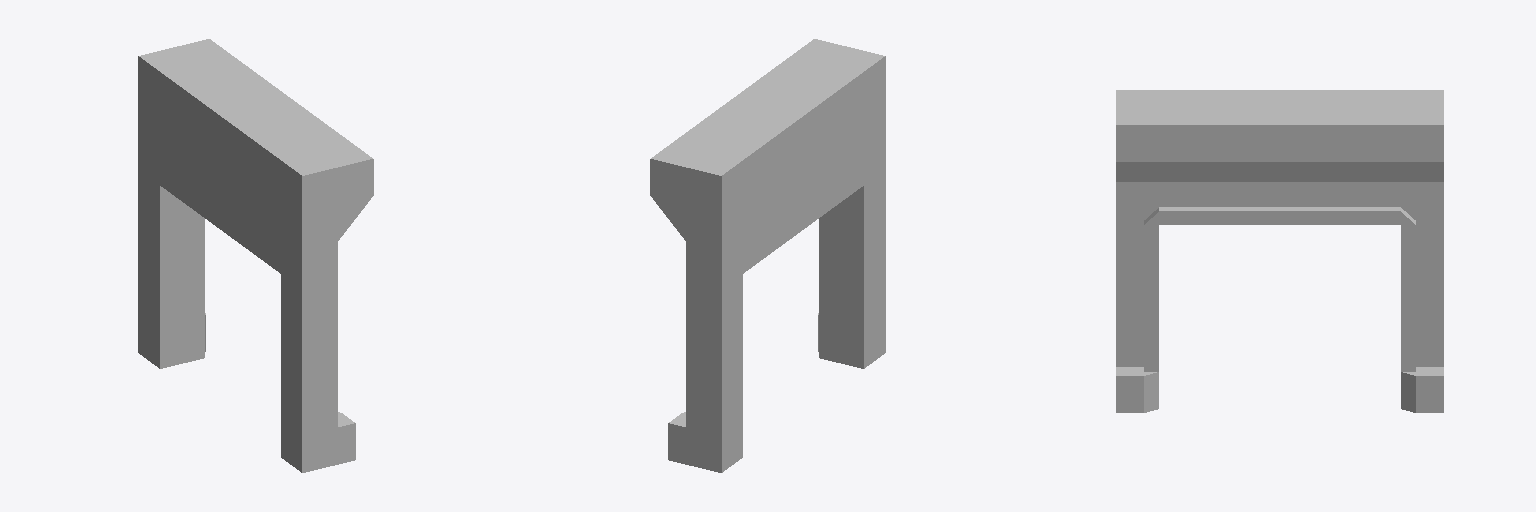
Rendered from spaceInterior_037.obj.
3 views of the same model, side by side, from view 1: azimuth 30°, elevation 25°; view 2: azimuth 150°, elevation 25°; view 3: azimuth 270°, elevation 25° (orthographic).
Parts seen in each view (by area): view 1: Mesh1 Group1 Model; view 2: Mesh1 Group1 Model; view 3: Mesh1 Group1 Model.
Boxes of the visible parts, <box> form: Mesh1 Group1 Model: <box>138,39,373,472</box>; Mesh1 Group1 Model: <box>650,39,885,472</box>; Mesh1 Group1 Model: <box>1116,90,1443,412</box>.
Bounding box in the file's own units: 0.25 × 1 × 1.